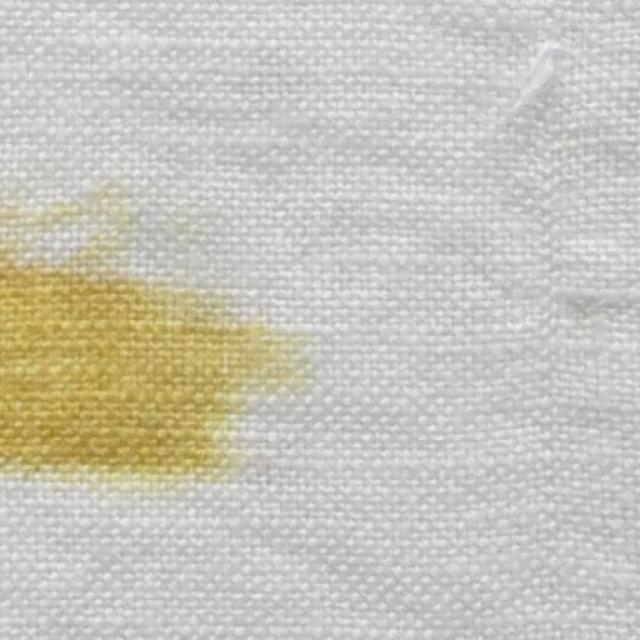Knot: (514, 42, 564, 111)
Stain: (0, 266, 310, 476)
